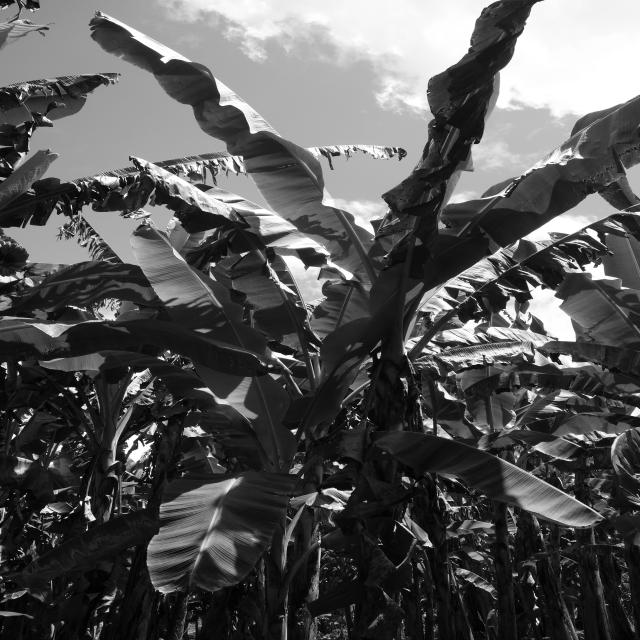Banana-plant: (344, 258, 453, 640)
